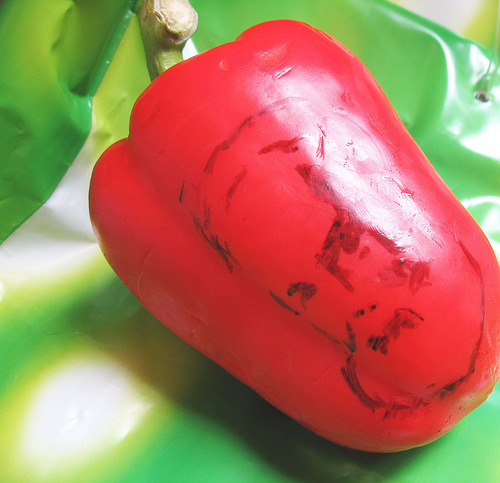capsicum: (89, 0, 498, 451)
